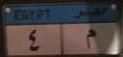4: (26, 26, 40, 52)
م: (80, 26, 99, 51)
